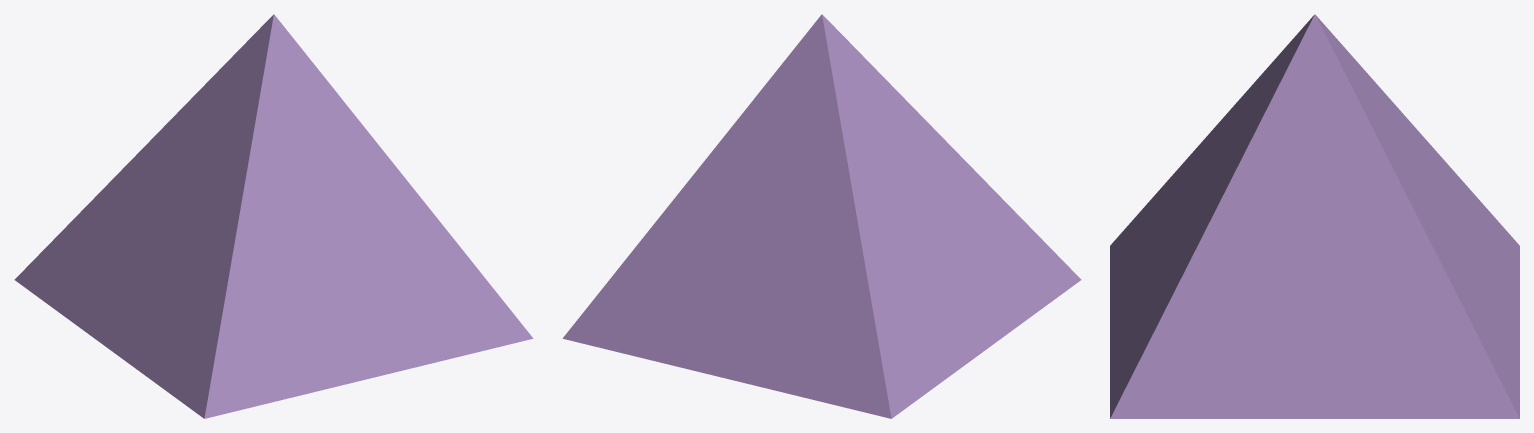
The model's file is piramide_cuadrangular.glb.
3 views of the same model, side by side, from view 1: azimuth 30°, elevation 25°; view 2: azimuth 150°, elevation 25°; view 3: azimuth 270°, elevation 25° (orthographic). The views are drawn at different scales.
Parts seen in each view (by area): view 1: world; view 2: world; view 3: world.
Part boxes in pixels (left/top/right/bottom): world: left=14, top=14, right=533, bottom=418; world: left=562, top=14, right=1081, bottom=418; world: left=1110, top=14, right=1519, bottom=418.
Bounding box in the file's own units: 0.14 × 0.12 × 0.14.
